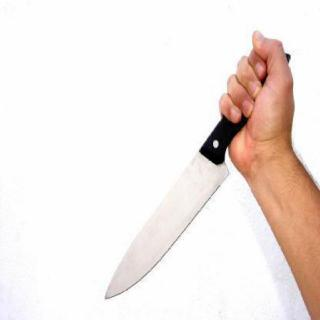knife: (101, 82, 265, 308)
